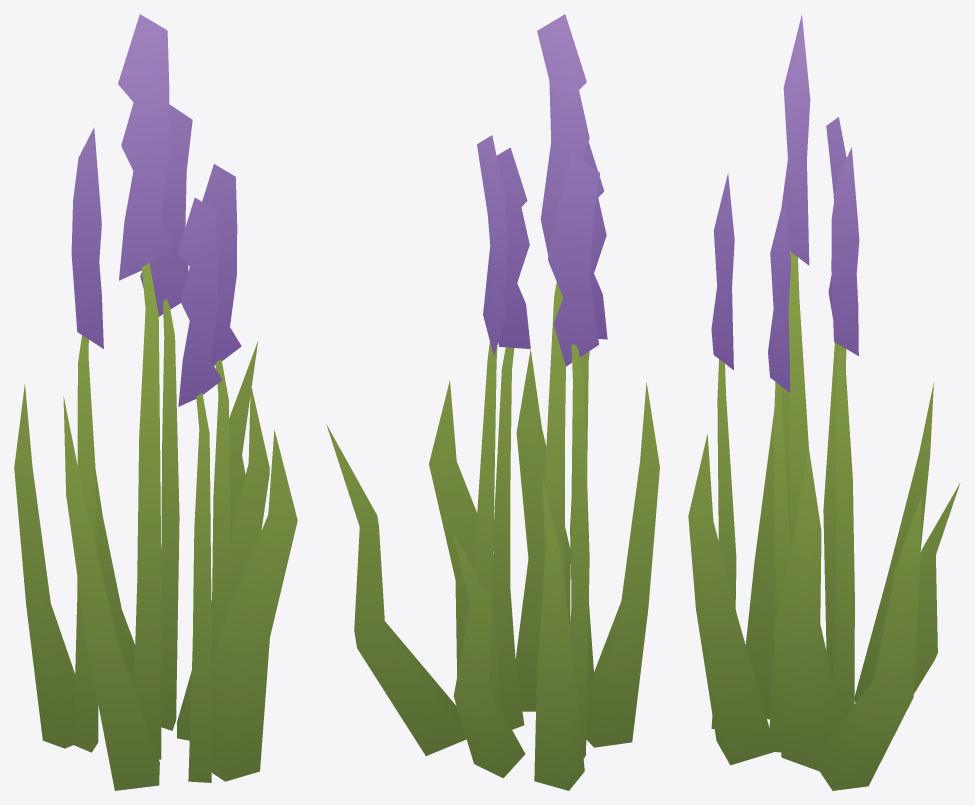
File: Flower_05.fbx
3 renders of one model, left to right at view 1: azimuth 30°, elevation 25°; view 2: azimuth 150°, elevation 25°; view 3: azimuth 270°, elevation 25°, orthographic. The views are drawn at different scales.
Visible parts, largest first — view 1: Flower_05_LOD0; view 2: Flower_05_LOD0; view 3: Flower_05_LOD0.
Part boxes in pixels (left/top/right/bottom): Flower_05_LOD0: left=14, top=14, right=297, bottom=790; Flower_05_LOD0: left=326, top=14, right=659, bottom=790; Flower_05_LOD0: left=688, top=14, right=959, bottom=790.
Size of what is drawn, in the model's own units: 0.1755 by 0.4774 by 0.1631.
